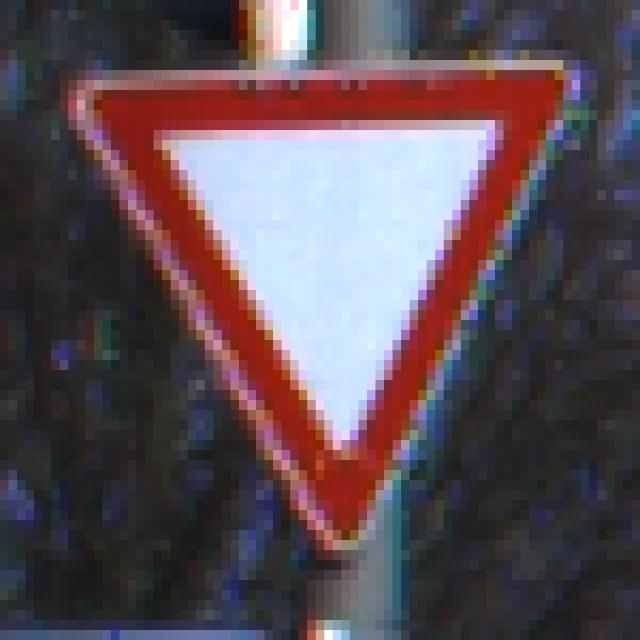Give Way: (61, 51, 590, 591)
